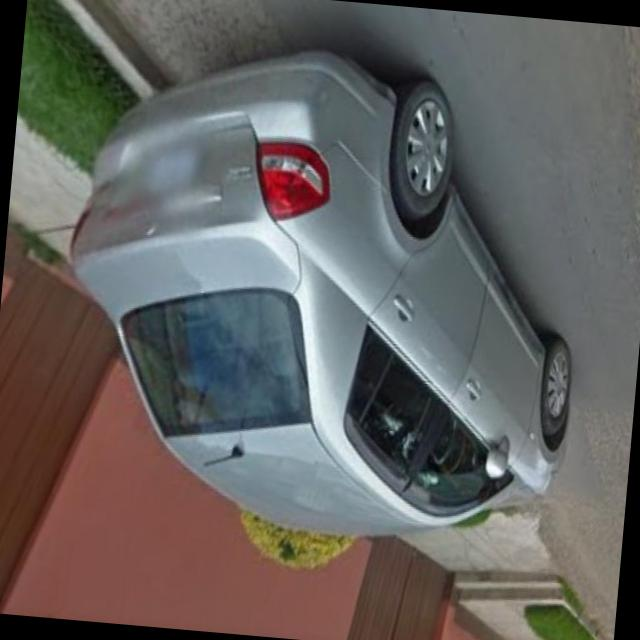car: (43, 32, 621, 564)
